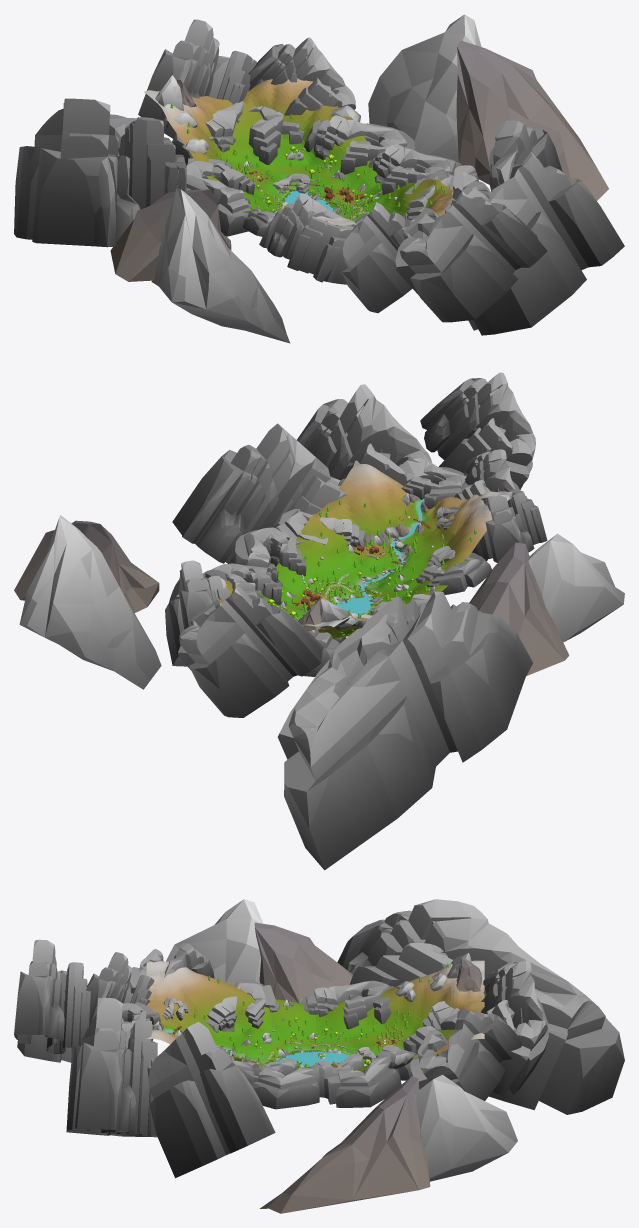
The picture shows the model from 3 angles, top to bottom: view 1: azimuth 30°, elevation 25°; view 2: azimuth 150°, elevation 25°; view 3: azimuth 270°, elevation 25°; orthographic projection. The views are drawn at different scales.
Parts seen in each view (by area): view 1: samor_4077_18, samor_4077_16, samor_4077_17, samor_4077_13, samor_4077_10, samor_4077_599, samor_4077_14, samor_4077_09, samor_4077_12, samor_4077_15, samor_4077_01, samor_4077_06 (+7 smaller); view 2: samor_4077_16, samor_4077_18, samor_4077_599, samor_4077_11, samor_4077_14, samor_4077_17, samor_4077_10, samor_4077_13, samor_4077_12, samor_4077_15, samor_4077_07, samor_4077_03 (+6 smaller); view 3: samor_4077_16, samor_4077_18, samor_4077_599, samor_4077_11, samor_4077_13, samor_4077_17, samor_4077_10, samor_4077_15, samor_4077_14, samor_4077_01, samor_4077_07, samor_4077_05 (+7 smaller).
Part boxes in pixels (x1=…): samor_4077_18: x1=368, y1=14, x2=608, y2=200; samor_4077_16: x1=14, y1=98, x2=186, y2=247; samor_4077_17: x1=110, y1=188, x2=290, y2=343; samor_4077_13: x1=445, y1=149, x2=624, y2=335; samor_4077_10: x1=395, y1=188, x2=547, y2=322; samor_4077_599: x1=144, y1=78, x2=453, y2=225; samor_4077_14: x1=138, y1=19, x2=256, y2=138; samor_4077_09: x1=340, y1=202, x2=413, y2=313; samor_4077_12: x1=259, y1=193, x2=354, y2=284; samor_4077_15: x1=238, y1=37, x2=355, y2=115; samor_4077_01: x1=304, y1=115, x2=417, y2=174; samor_4077_06: x1=172, y1=101, x2=304, y2=165; samor_4077_16: x1=277, y1=591, x2=532, y2=870; samor_4077_18: x1=14, y1=515, x2=161, y2=689; samor_4077_599: x1=176, y1=462, x2=511, y2=638; samor_4077_11: x1=172, y1=423, x2=346, y2=563; samor_4077_14: x1=178, y1=584, x2=323, y2=717; samor_4077_17: x1=469, y1=533, x2=624, y2=675; samor_4077_10: x1=420, y1=372, x2=535, y2=489; samor_4077_13: x1=297, y1=384, x2=432, y2=486; samor_4077_12: x1=476, y1=489, x2=547, y2=562; samor_4077_15: x1=165, y1=560, x2=229, y2=666; samor_4077_07: x1=233, y1=527, x2=306, y2=586; samor_4077_03: x1=416, y1=545, x2=491, y2=594; samor_4077_16: x1=337, y1=899, x2=624, y2=1114; samor_4077_18: x1=259, y1=1074, x2=517, y2=1213; samor_4077_599: x1=146, y1=960, x2=484, y2=1071; samor_4077_11: x1=147, y1=1022, x2=275, y2=1178; samor_4077_13: x1=66, y1=997, x2=157, y2=1137; samor_4077_17: x1=166, y1=899, x2=352, y2=1044; samor_4077_10: x1=14, y1=939, x2=90, y2=1062; samor_4077_15: x1=410, y1=1009, x2=522, y2=1100; samor_4077_14: x1=481, y1=960, x2=548, y2=1096; samor_4077_01: x1=327, y1=1045, x2=418, y2=1107; samor_4077_07: x1=251, y1=1058, x2=338, y2=1109; samor_4077_05: x1=299, y1=980, x2=393, y2=1029.
Size of the model in its own units: 129331 by 58289 by 147434.
Materials: 600 (599 with a texture image).
